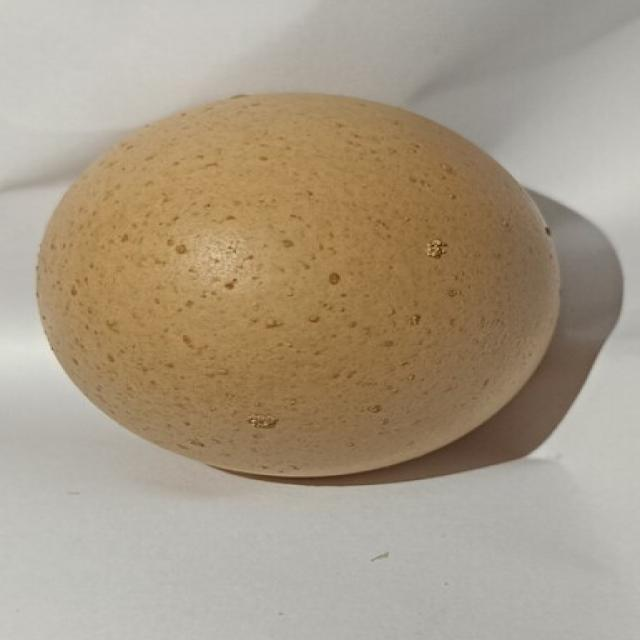unfresh: (34, 82, 564, 488)
